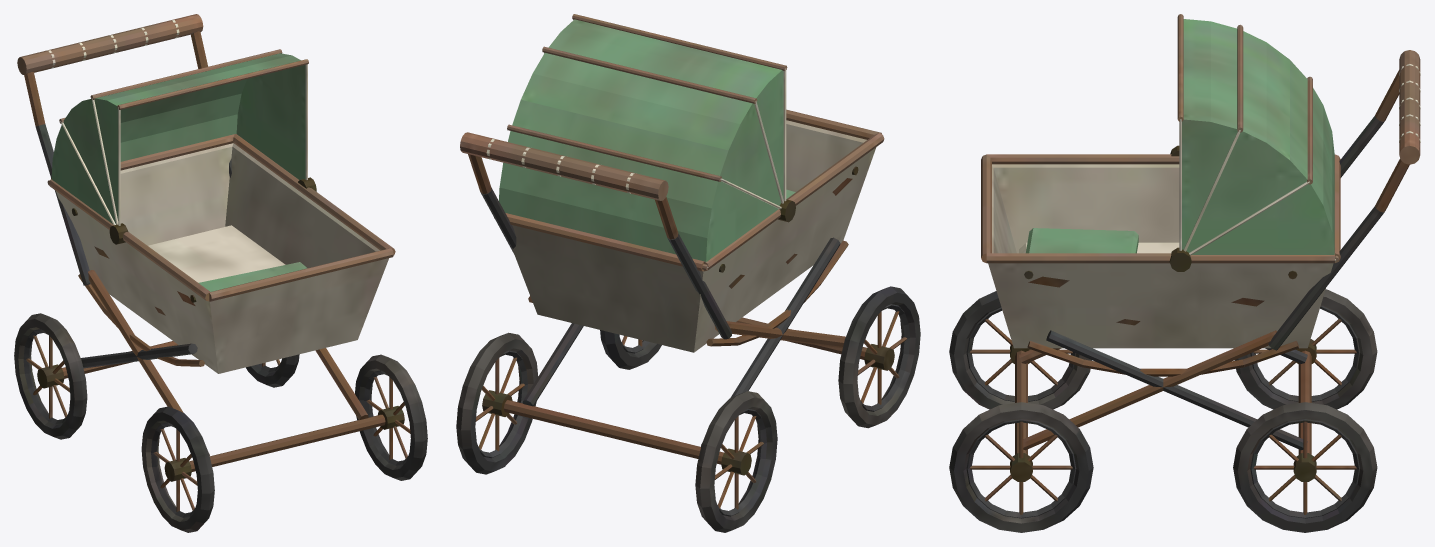
File: V06_baby_pram.glb
3 views of the same model, side by side, from view 1: azimuth 30°, elevation 25°; view 2: azimuth 150°, elevation 25°; view 3: azimuth 270°, elevation 25° (orthographic). The views are drawn at different scales.
Parts seen in each view (by area): view 1: Full axle; view 2: Full axle; view 3: Full axle.
Boxes of the visible parts, x1,y1,x2,y2 form: Full axle: (14, 14, 427, 532); Full axle: (456, 14, 920, 532); Full axle: (949, 14, 1420, 532).
Size of the model in its own units: 0.6272 by 0.9588 by 1.
Materials: 8 (8 with a texture image).
